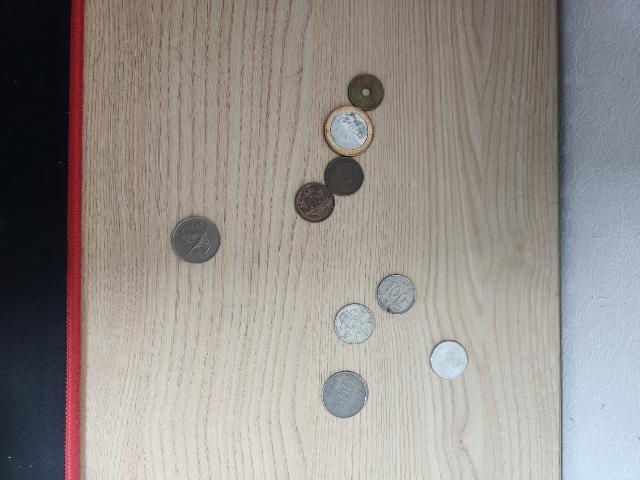coin: (322, 105, 374, 156), (172, 216, 220, 264), (322, 369, 368, 417), (294, 182, 336, 224), (428, 338, 470, 380), (324, 154, 364, 196), (376, 272, 416, 314), (332, 304, 372, 344), (348, 73, 384, 112)
